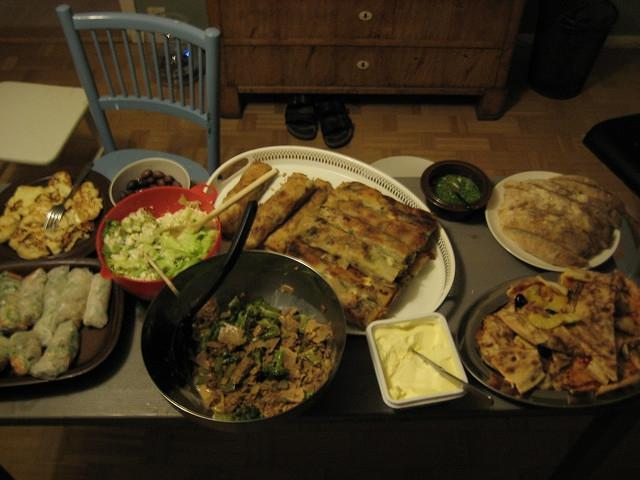broccoli: (260, 349, 290, 382), (252, 317, 280, 343), (238, 305, 258, 340), (224, 356, 242, 380), (195, 329, 212, 354), (235, 404, 261, 420), (255, 306, 281, 320), (213, 357, 224, 389), (248, 348, 264, 366), (304, 352, 320, 366), (228, 295, 241, 310)
